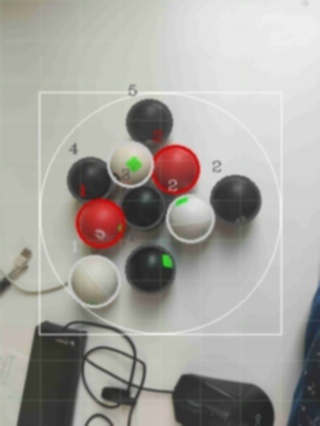Pelota blanca: (82, 342, 147, 408), (68, 254, 121, 307), (164, 193, 217, 243), (108, 140, 153, 187), (127, 390, 179, 425), (82, 411, 115, 425)
Pelota negra: (169, 371, 275, 425), (209, 174, 262, 227), (124, 244, 177, 296), (124, 97, 174, 147), (66, 156, 113, 203), (121, 185, 163, 232)
Pelota roja: (151, 142, 201, 195), (74, 198, 126, 248)
